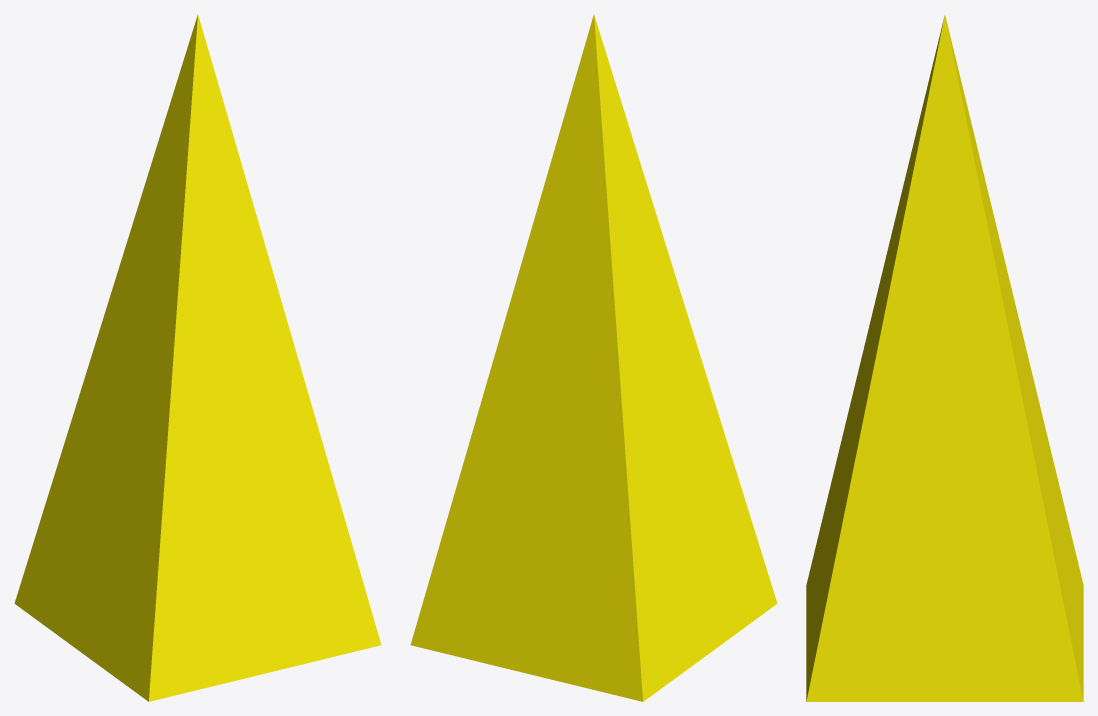
Rendered from arrow.fbx.
The picture shows the model from 3 angles, left to right: view 1: azimuth 30°, elevation 25°; view 2: azimuth 150°, elevation 25°; view 3: azimuth 270°, elevation 25°; orthographic projection. The views are drawn at different scales.
Visible parts, largest first — view 1: root; view 2: root; view 3: root.
Boxes of the visible parts, <box> form: root: <box>14,15,381,701</box>; root: <box>410,15,777,701</box>; root: <box>806,15,1083,701</box>.
Bounding box in the file's own units: 0.1008 × 0.2527 × 0.1008.
